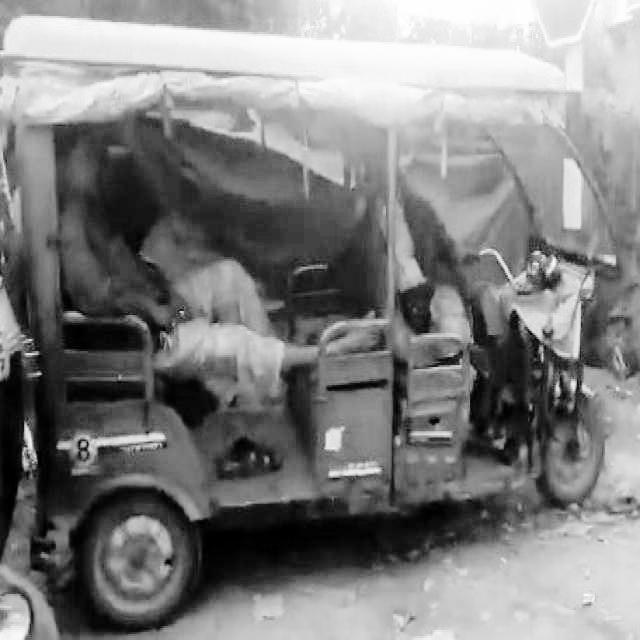Toto: (2, 22, 623, 623)
